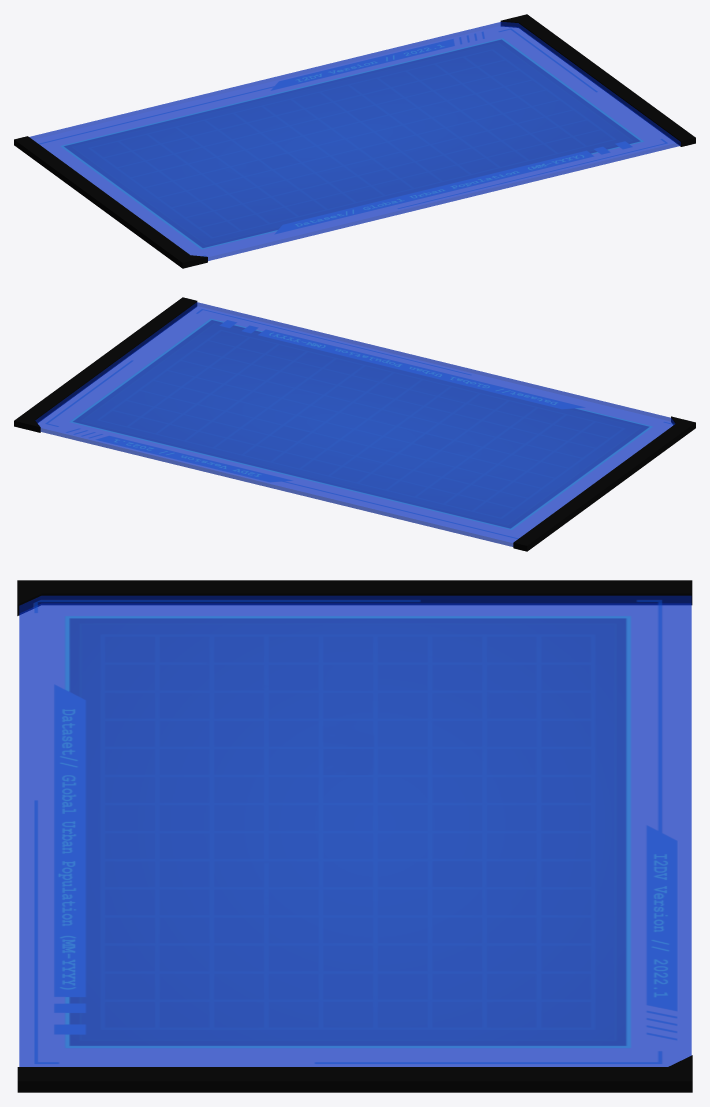
The model's file is Maniglie_tablet2.fbx.
3 renders of one model, top to bottom at view 1: azimuth 30°, elevation 25°; view 2: azimuth 150°, elevation 25°; view 3: azimuth 270°, elevation 25°, orthographic. The views are drawn at different scales.
Visible parts, largest first — view 1: Schermo, Schermo_dentro, Maniglie; view 2: Schermo, Schermo_dentro, Maniglie; view 3: Schermo, Schermo_dentro, Maniglie.
Part boxes in pixels (bbox=[...]): Schermo: bbox=[29, 21, 680, 260]; Schermo_dentro: bbox=[40, 29, 667, 248]; Maniglie: bbox=[14, 14, 695, 268]; Schermo: bbox=[35, 302, 675, 546]; Schermo_dentro: bbox=[45, 309, 673, 538]; Maniglie: bbox=[14, 297, 695, 551]; Schermo: bbox=[19, 595, 691, 1066]; Schermo_dentro: bbox=[34, 600, 677, 1063]; Maniglie: bbox=[17, 580, 692, 1092].
Bounding box in the file's own units: 39.23 × 0.4199 × 22.35.
